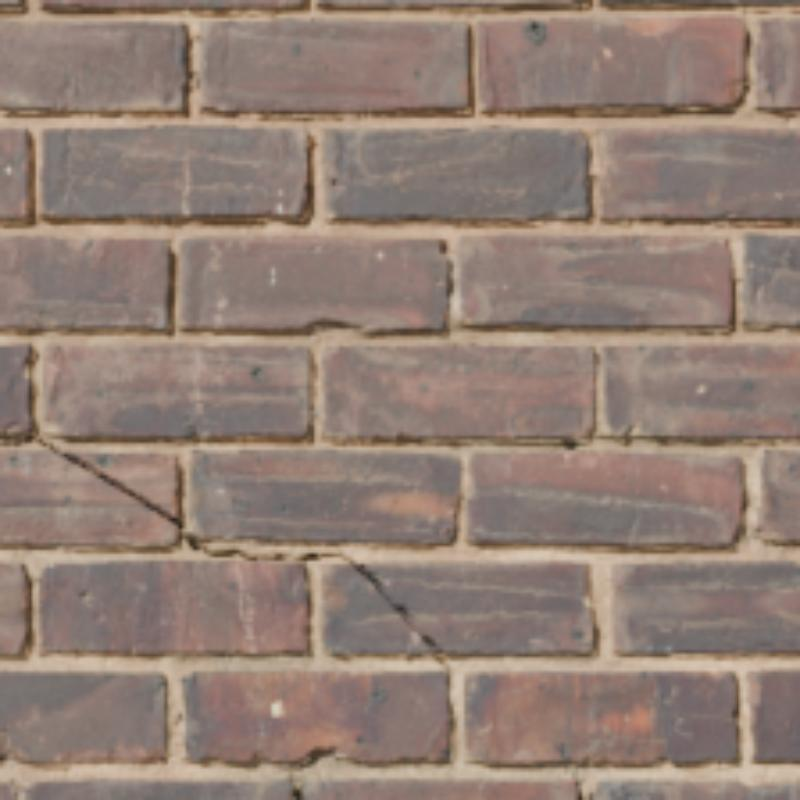pothole: (0, 436, 343, 554), (343, 554, 450, 671)
